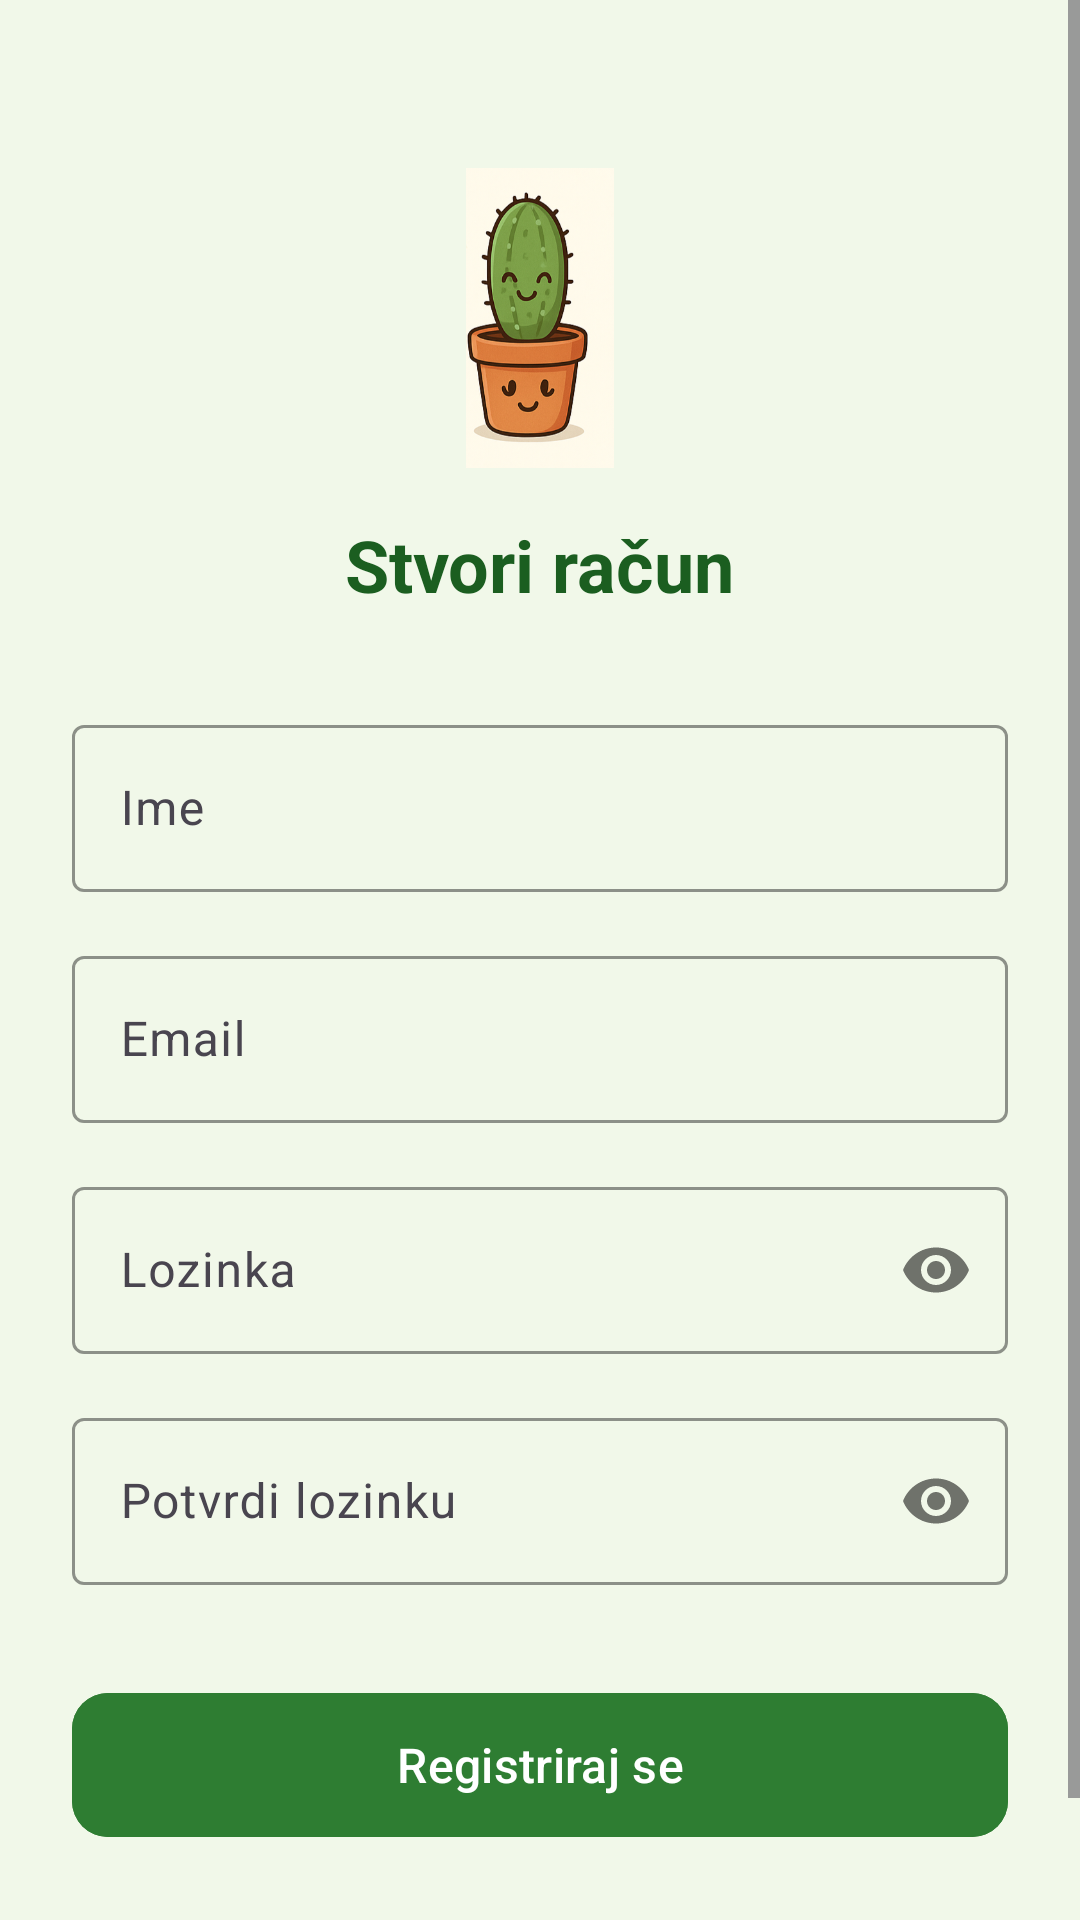

Point at icon controls on the screen. Image size 1080×1920, points as (x=x, y=y).
plant happy cactus: (x=527, y=317)
